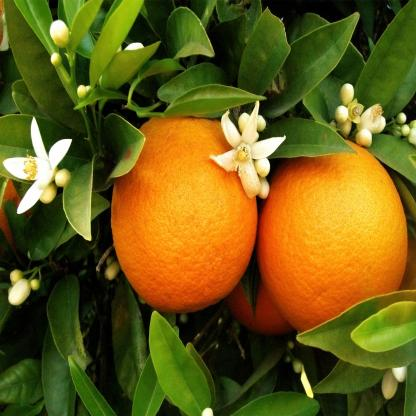orange: (108, 98, 268, 312), (257, 128, 410, 337)
